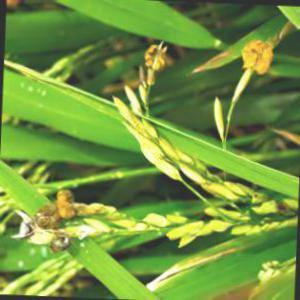Leaf_Scald: (48, 193, 84, 226), (242, 42, 280, 70), (138, 43, 164, 75)
